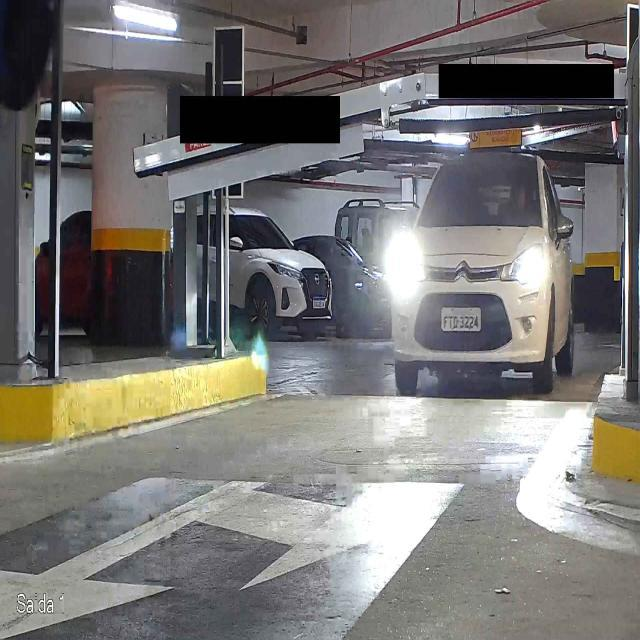old_plate: (439, 305, 484, 334)
